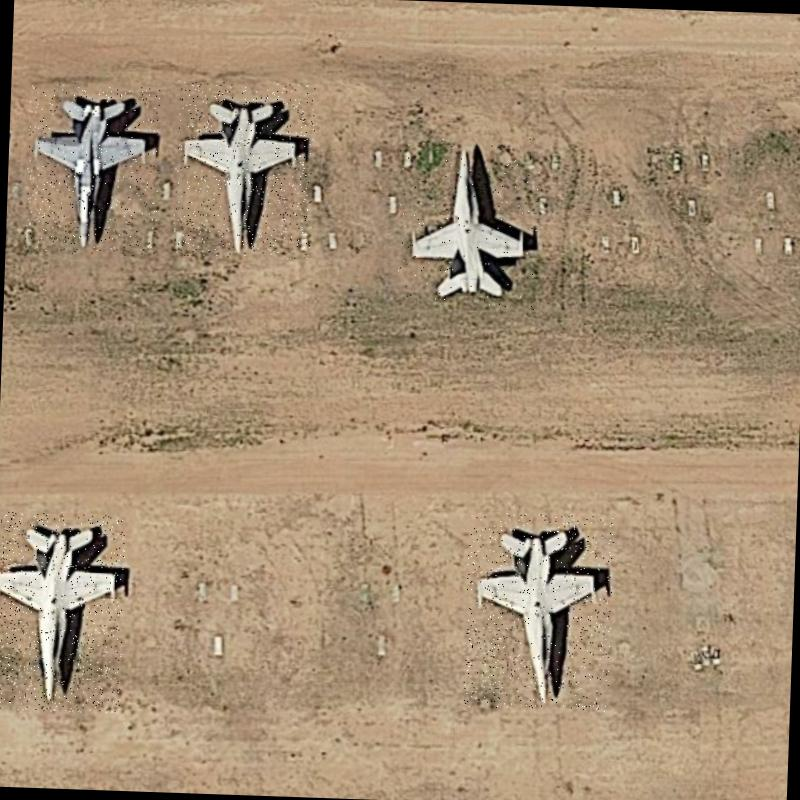A16: (462, 512, 614, 712), (172, 80, 316, 260), (394, 134, 540, 310), (0, 511, 126, 713), (24, 83, 161, 256)
